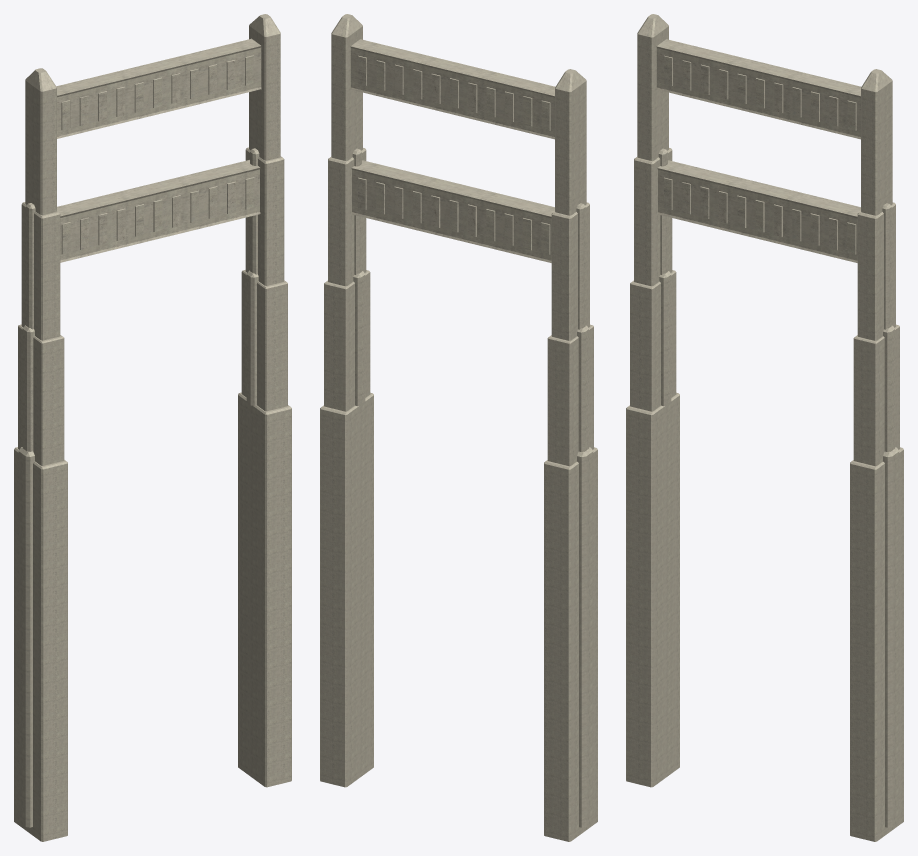
The model's file is SuspBridgePillarSmall-4L.FBX.
3 renders of one model, left to right at view 1: azimuth 30°, elevation 25°; view 2: azimuth 150°, elevation 25°; view 3: azimuth 330°, elevation 25°, orthographic.
Parts seen in each view (by area): view 1: SuspPillarSmall-4L; view 2: SuspPillarSmall-4L; view 3: SuspPillarSmall-4L.
Boxes of the visible parts, box(x1,y1,x2,y2) form: SuspPillarSmall-4L: box(14, 14, 291, 841); SuspPillarSmall-4L: box(320, 14, 597, 841); SuspPillarSmall-4L: box(626, 14, 903, 841).
Bounding box in the file's own units: 50.53 × 140 × 9.6.
